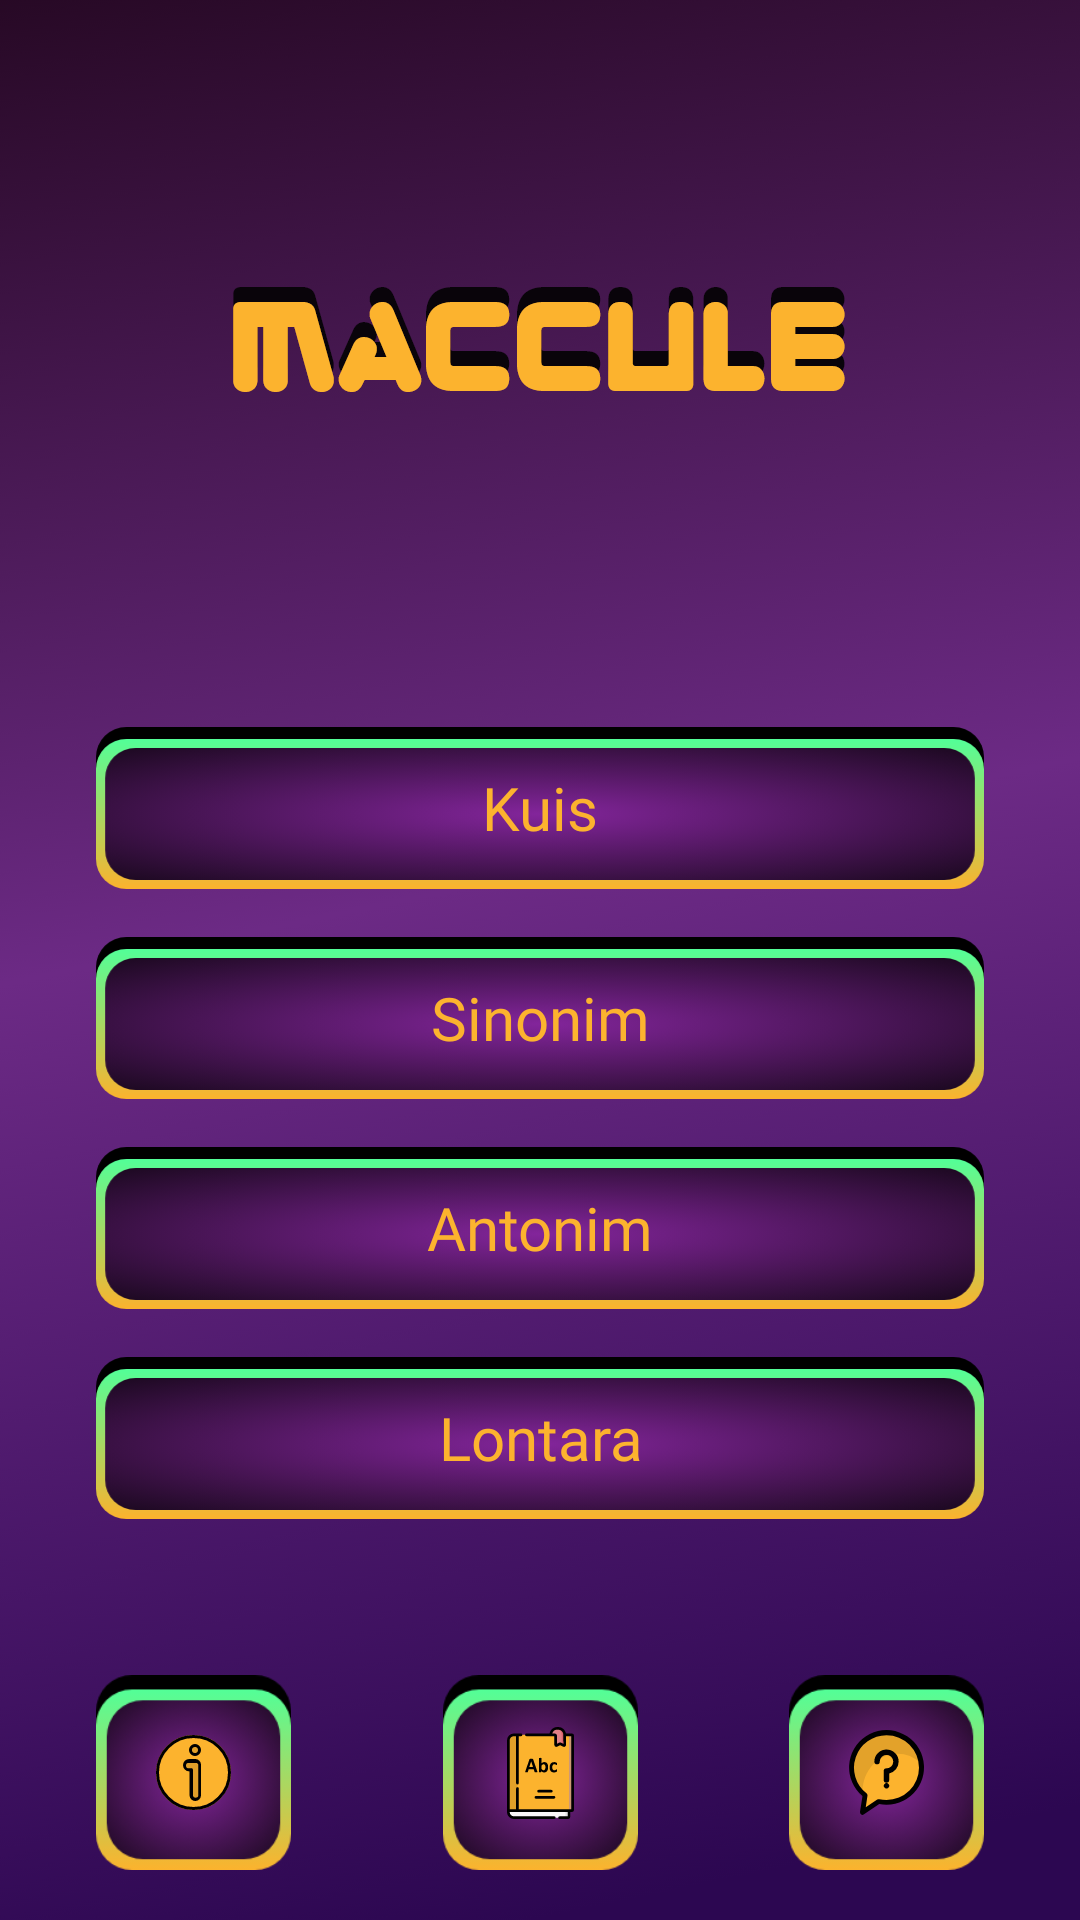

Icons on this 1080x1920 Android screen, each with the point to tap as (x,y):
informasi: (193,1772)
kamus: (540,1772)
pertanyaan: (886,1772)
